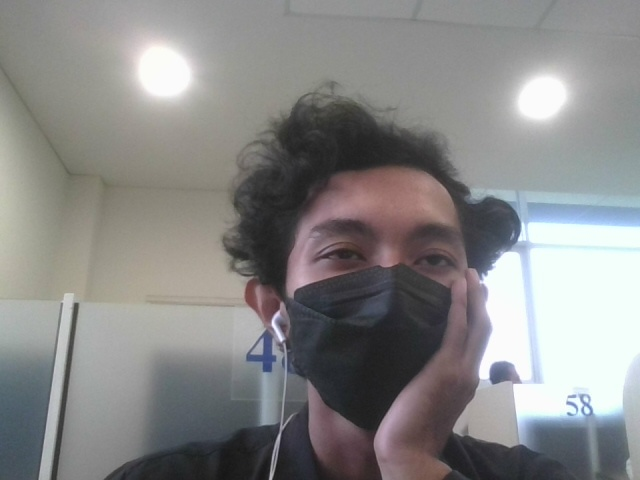Drowsy: (246, 89, 524, 461)
